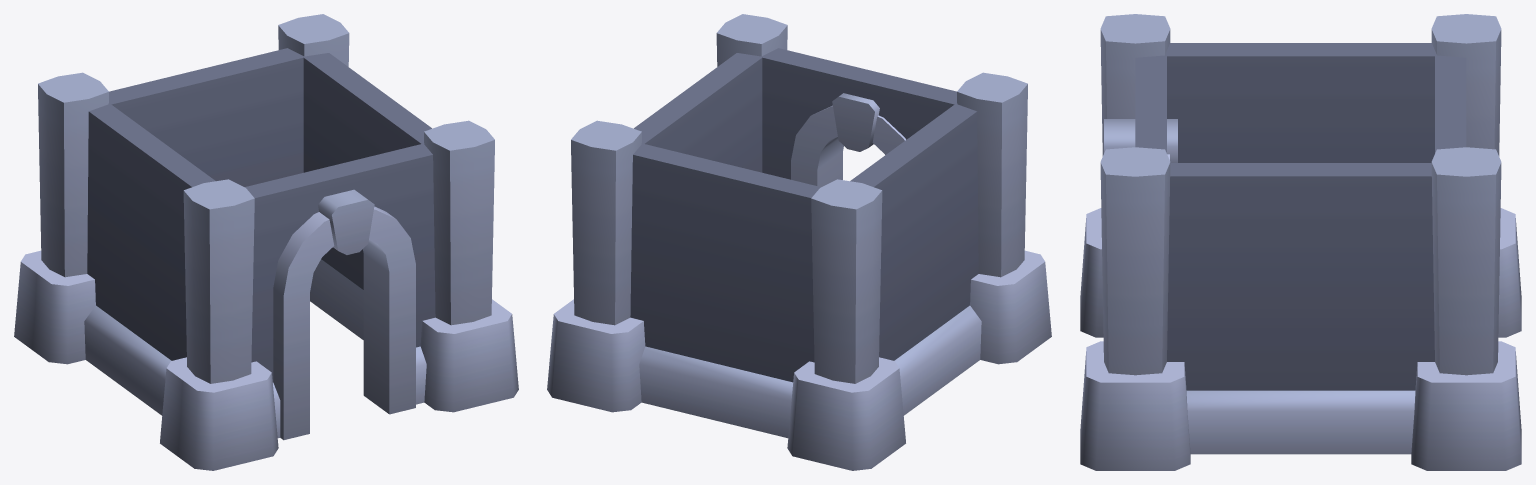
File: k-graveyard-crypt-small.glb
3 views of the same model, side by side, from view 1: azimuth 30°, elevation 25°; view 2: azimuth 150°, elevation 25°; view 3: azimuth 270°, elevation 25° (orthographic). The views are drawn at different scales.
Visible parts, largest first — view 1: crypt-small; view 2: crypt-small; view 3: crypt-small.
Boxes of the visible parts, x1,y1,x2,y2 form: crypt-small: (14,14,518,470); crypt-small: (547,14,1051,470); crypt-small: (1080,14,1521,470).
Bounding box in the file's own units: 1.35 × 1 × 1.4.
Materials: 1 (1 with a texture image).
